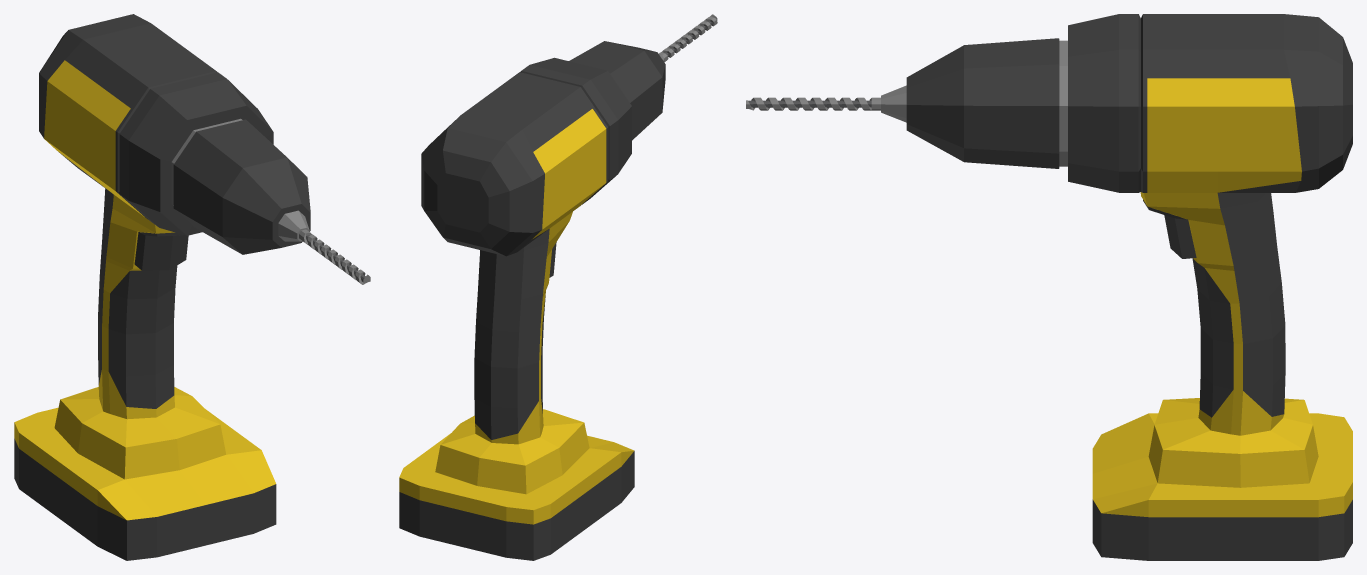
Rendered from Drill.fbx.
The picture shows the model from 3 angles, left to right: view 1: azimuth 30°, elevation 25°; view 2: azimuth 150°, elevation 25°; view 3: azimuth 270°, elevation 25°; orthographic projection. The views are drawn at different scales.
Parts seen in each view (by area): view 1: Cube.001, Cube.002; view 2: Cube.001, Cube.002; view 3: Cube.001, Cube.002.
Part boxes in pixels (x1,y1,x2,y2): Cube.001: [14, 14, 310, 560]; Cube.002: [299, 229, 370, 284]; Cube.001: [399, 41, 665, 560]; Cube.002: [659, 14, 717, 61]; Cube.001: [881, 14, 1352, 560]; Cube.002: [746, 97, 880, 110].
Size of the model in its own units: 311 by 815 by 922.
